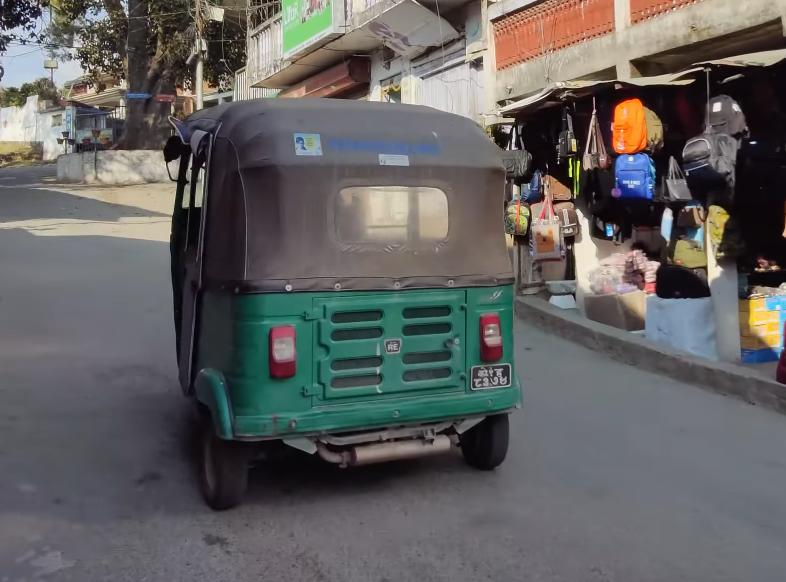auto_rickshaw: (152, 98, 537, 525)
